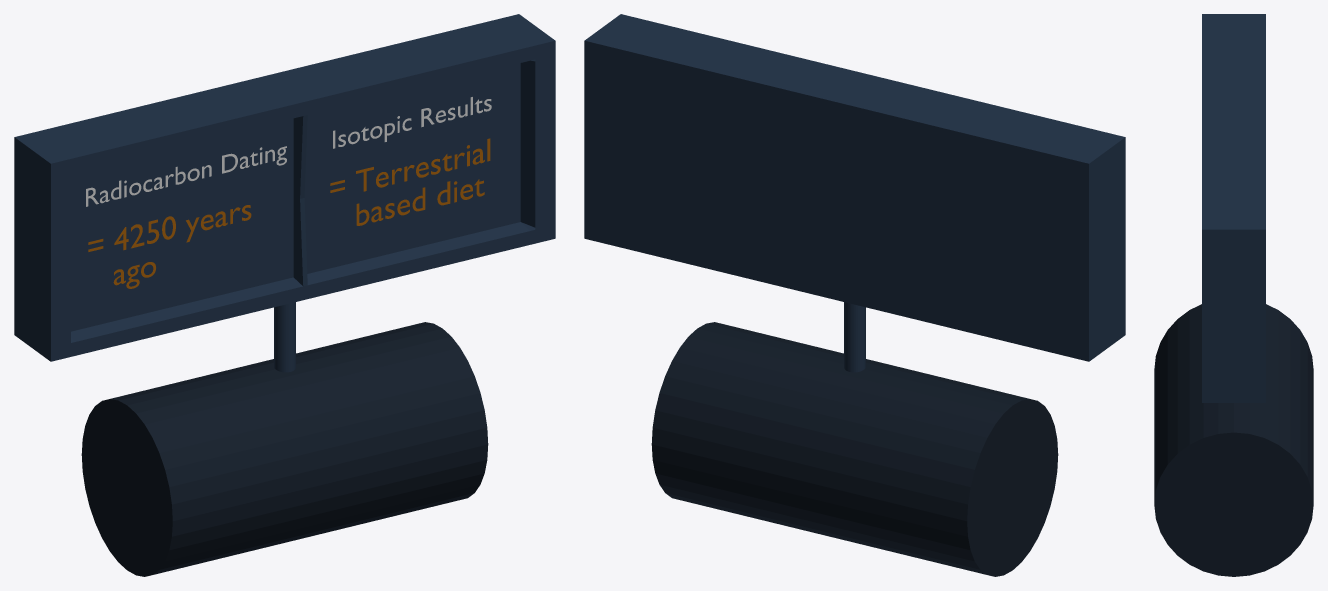
Rendered from radiocarbon.obj.
3 views of the same model, side by side, from view 1: azimuth 30°, elevation 25°; view 2: azimuth 150°, elevation 25°; view 3: azimuth 270°, elevation 25° (orthographic). The views are drawn at different scales.
Visible parts, largest first — view 1: Cube, Cylinder, Text.003, Text.001, Text, Cylinder.001, Text.002; view 2: Cube, Cylinder, Cylinder.001; view 3: Cylinder, Cube.
Part boxes in pixels (box(x1,y1,x2,y2)): Cube: box(14, 14, 555, 361); Cylinder: box(81, 322, 488, 576); Text.003: box(330, 138, 490, 225); Text.001: box(88, 205, 251, 288); Text: box(86, 146, 286, 206); Cylinder.001: box(274, 302, 295, 372); Text.002: box(333, 97, 491, 148); Cube: box(584, 14, 1125, 361); Cylinder: box(651, 322, 1058, 576); Cylinder.001: box(844, 302, 865, 372); Cylinder: box(1154, 304, 1313, 576); Cube: box(1202, 14, 1265, 402).
Size of the model in its own units: 1.6 by 1.34 by 0.5.
